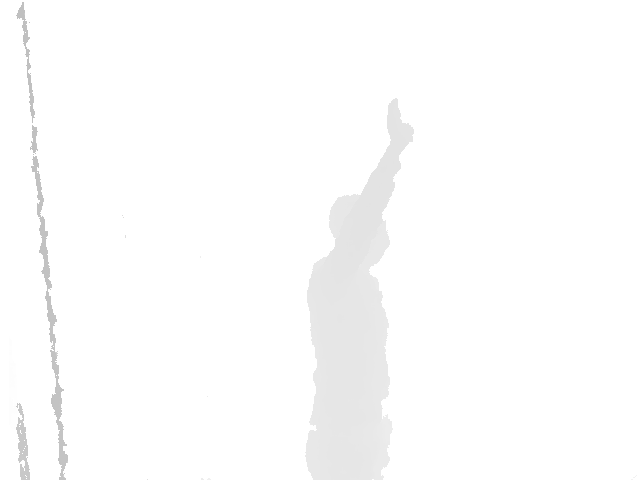hand: (385, 97, 415, 152)
head: (329, 194, 389, 262)
person: (305, 97, 416, 480)
